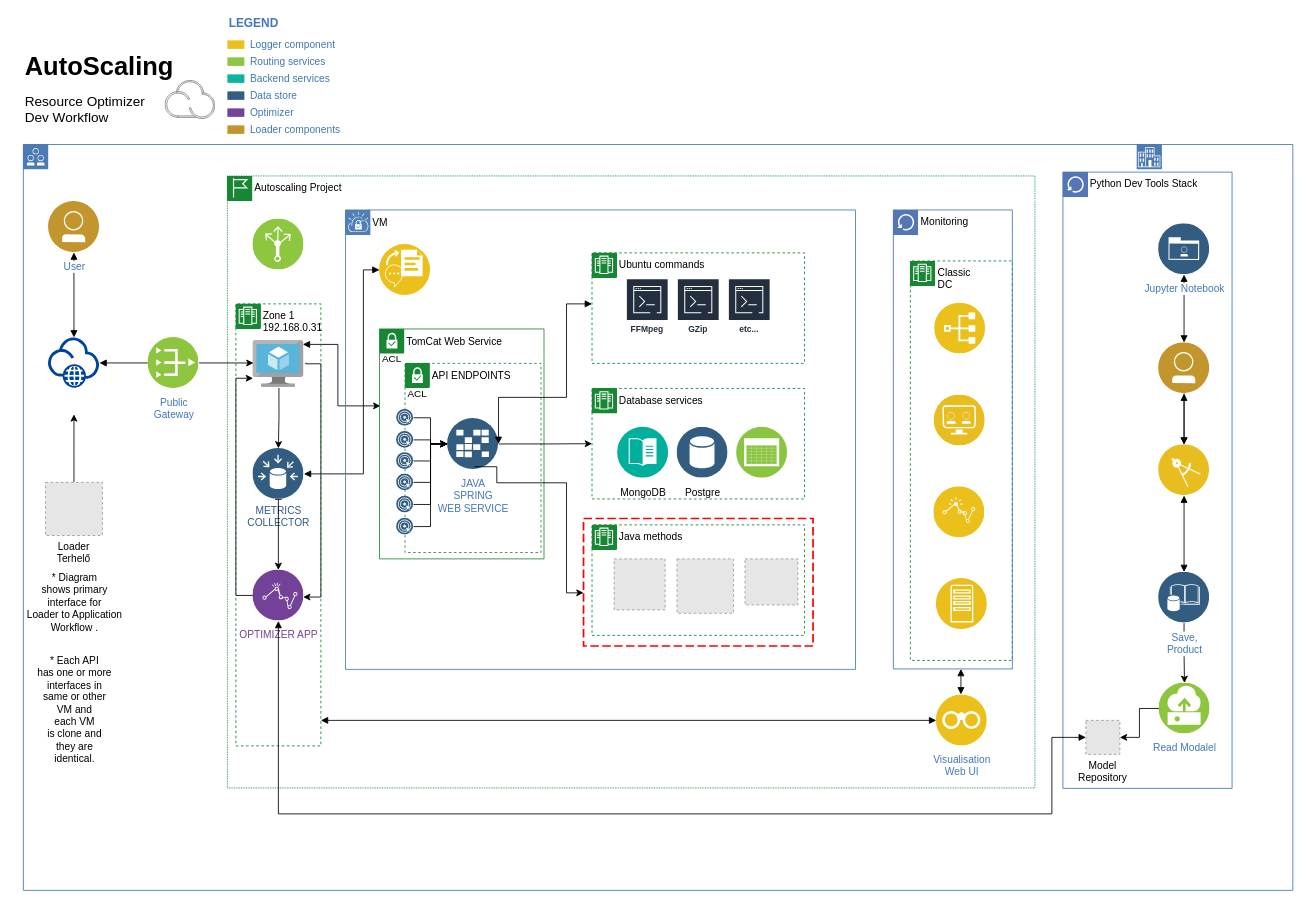
This 1308x905 diagram has some shape labels left out. Grey dashed boxes stand in for pictures. The shapes that lost their labels are listed below. From the top down, each one's centre as x and y in pixels, then its label:
At [35,157]: "Public Network".
At [1149,157]: "Analytics and Dev Stack".
At [277,243]: "Routing Service".
At [404,269]: "System Metric Logger".
At [959,328]: "Balancer Monitorig".
At [73,362]: "Internet".
At [277,363]: "Load Balancer VM".
At [1183,367]: "Model Analitcs and Dvelop".
At [959,419]: "Web App Monitoring".
At [761,452]: "MySQL".
At [1183,469]: "Backtest the Model".
At [958,511]: "Traffic Monitoring".
At [961,603]: "Log Storage".
